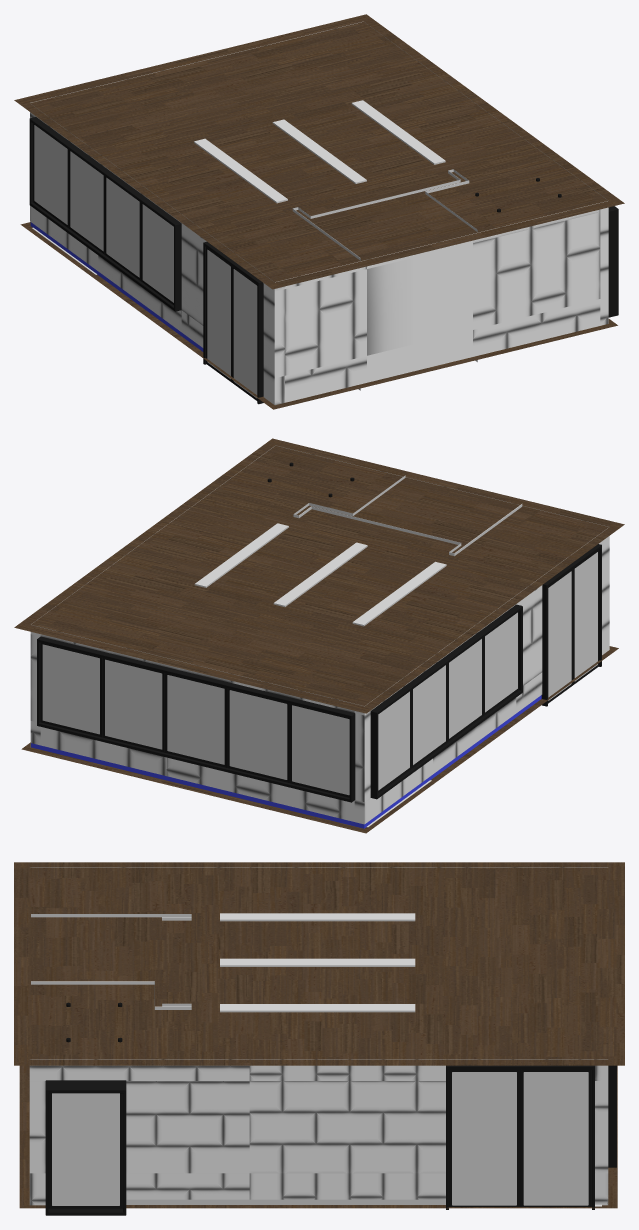
Rendered from Office.fbx.
3 views of the same model, one above another, from view 1: azimuth 30°, elevation 25°; view 2: azimuth 150°, elevation 25°; view 3: azimuth 270°, elevation 25° (orthographic). The views are drawn at different scales.
Visible parts, largest first — view 1: Plane.001, Plane.015, Plane.020, Plane.009, Cube.001, Plane.010, Plane.013, Plane.008, Plane.002, Plane.011; view 2: Plane.001, Plane.004, Plane.015, Plane.020, Plane.009, Plane.003, Cube.001, Plane.010, Plane.013, Plane.008, Plane.002; view 3: Plane.001, Plane.007, Plane.006, Plane.012, Cube.001, Plane.013, Plane.011, Plane.005, Plane.002, Plane.003, Plane.015.
Boxes of the visible parts, x1,y1,x2,y2 form: Plane.001: [14, 14, 624, 289]; Plane.015: [30, 21, 608, 405]; Plane.020: [33, 124, 173, 304]; Plane.009: [206, 247, 257, 400]; Cube.001: [194, 100, 445, 203]; Plane.010: [29, 117, 181, 311]; Plane.013: [20, 222, 617, 409]; Plane.008: [203, 241, 263, 404]; Plane.002: [292, 169, 477, 390]; Plane.011: [608, 206, 618, 317]; Plane.001: [14, 438, 624, 713]; Plane.004: [40, 643, 349, 797]; Plane.015: [30, 445, 609, 828]; Plane.020: [378, 611, 518, 792]; Plane.009: [548, 550, 599, 703]; Plane.003: [37, 636, 355, 802]; Cube.001: [194, 523, 446, 626]; Plane.010: [370, 604, 522, 799]; Plane.013: [21, 646, 618, 833]; Plane.008: [541, 544, 601, 706]; Plane.002: [293, 475, 522, 556]; Plane.001: [14, 862, 624, 1065]; Plane.007: [29, 1059, 608, 1205]; Plane.006: [449, 1069, 591, 1206]; Plane.012: [48, 1093, 123, 1208]; Cube.001: [220, 913, 415, 1012]; Plane.013: [19, 1065, 617, 1208]; Plane.011: [45, 1080, 126, 1215]; Plane.005: [446, 1065, 594, 1209]; Plane.002: [31, 914, 191, 1009]; Plane.003: [608, 1065, 616, 1167]; Plane.015: [30, 867, 608, 1204].
Size of the model in its own units: 1110 by 392 by 1381.
